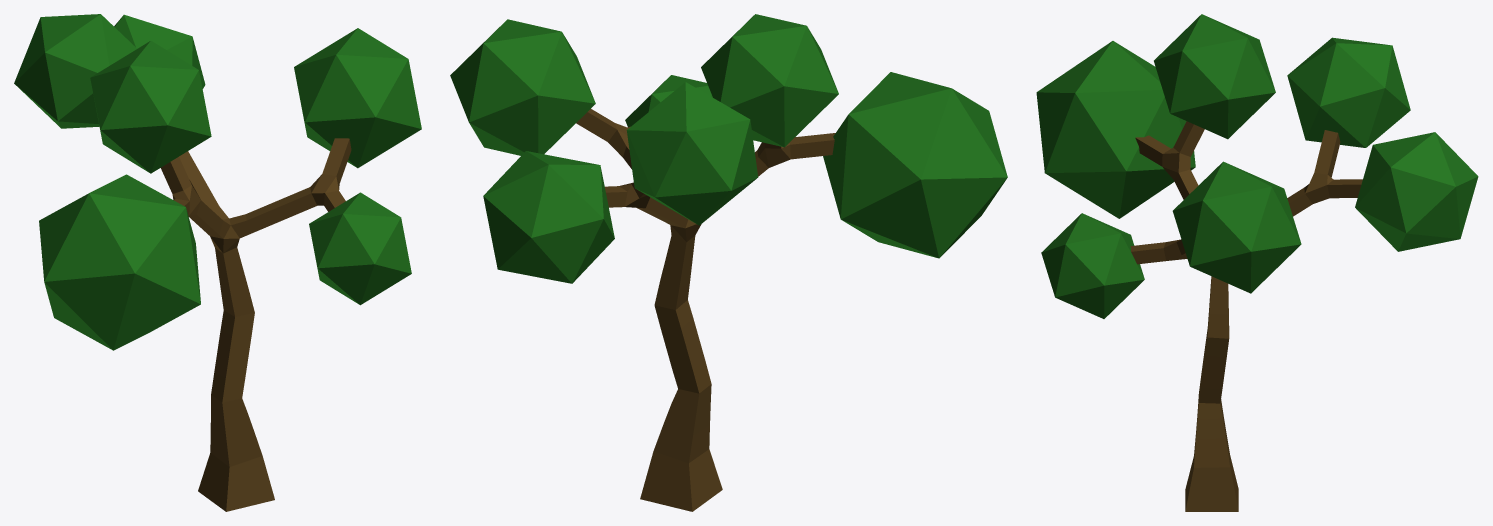
Rendered from Tree_LowPoly_1-6.fbx.
The picture shows the model from 3 angles, left to right: view 1: azimuth 30°, elevation 25°; view 2: azimuth 150°, elevation 25°; view 3: azimuth 270°, elevation 25°; orthographic projection. The views are drawn at different scales.
Visible parts, largest first — view 1: Tree_LowPoly_1-6; view 2: Tree_LowPoly_1-6; view 3: Tree_LowPoly_1-6.
Boxes of the visible parts, x1,y1,x2,y2 form: Tree_LowPoly_1-6: (14,14,421,511); Tree_LowPoly_1-6: (450,14,1007,511); Tree_LowPoly_1-6: (1036,14,1478,511).
Bounding box in the file's own units: 1120 × 1112 × 1023.
